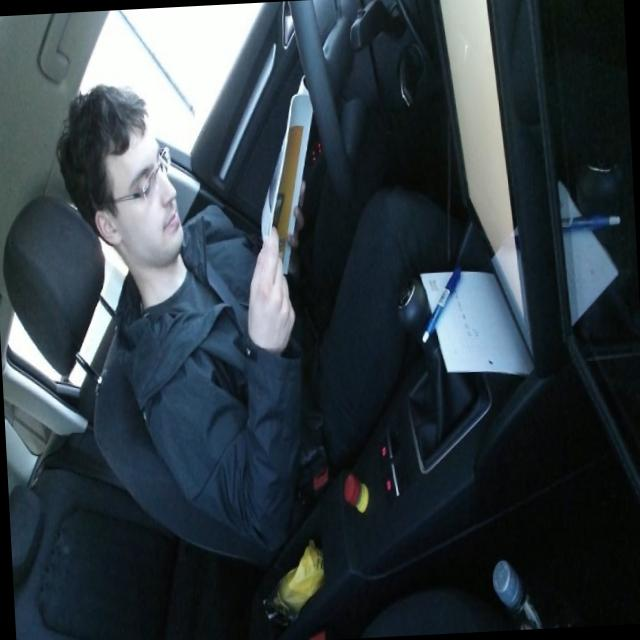pen: (418, 264, 464, 344)
